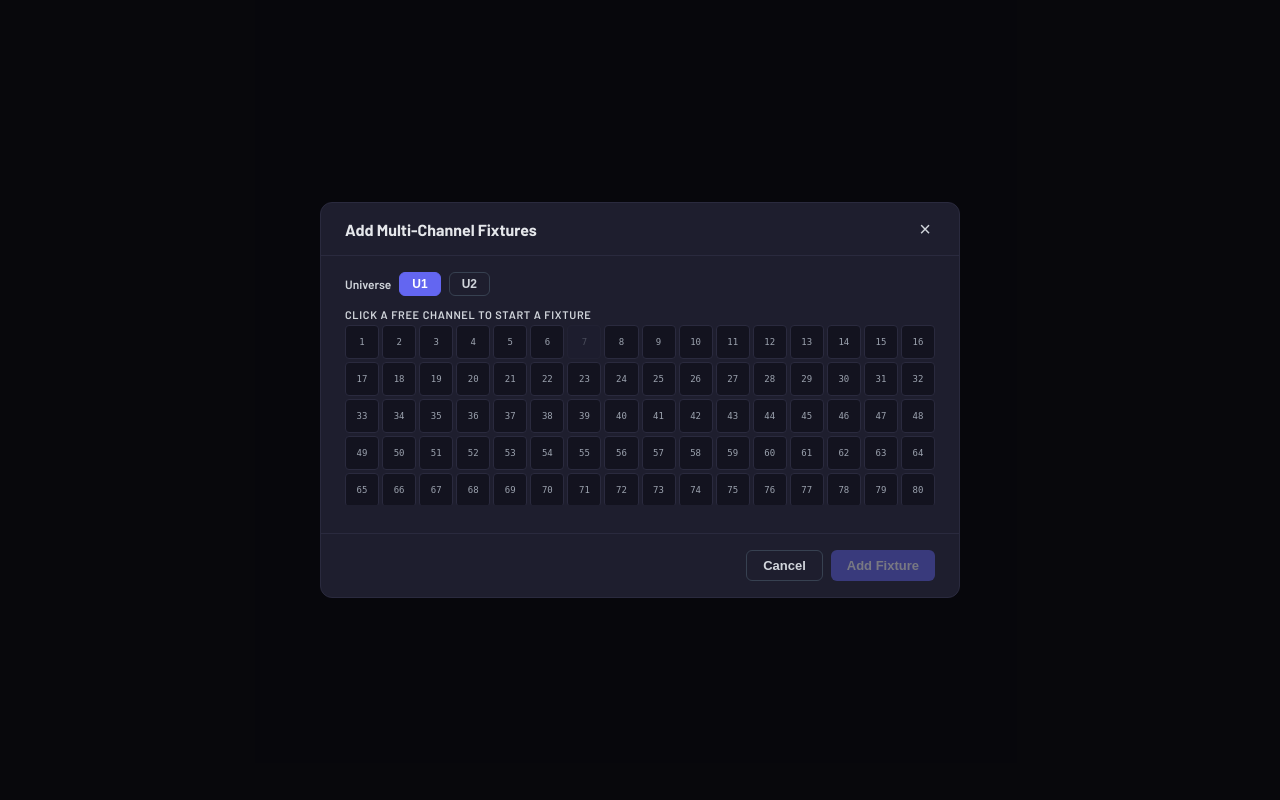
Scenario: AddMultiChannelFixturesModal › rejects + Add Channel when the next channel is already taken and shows a toast
Click the text titled "Channel 5" at (510, 342), box [493,325,527,359]
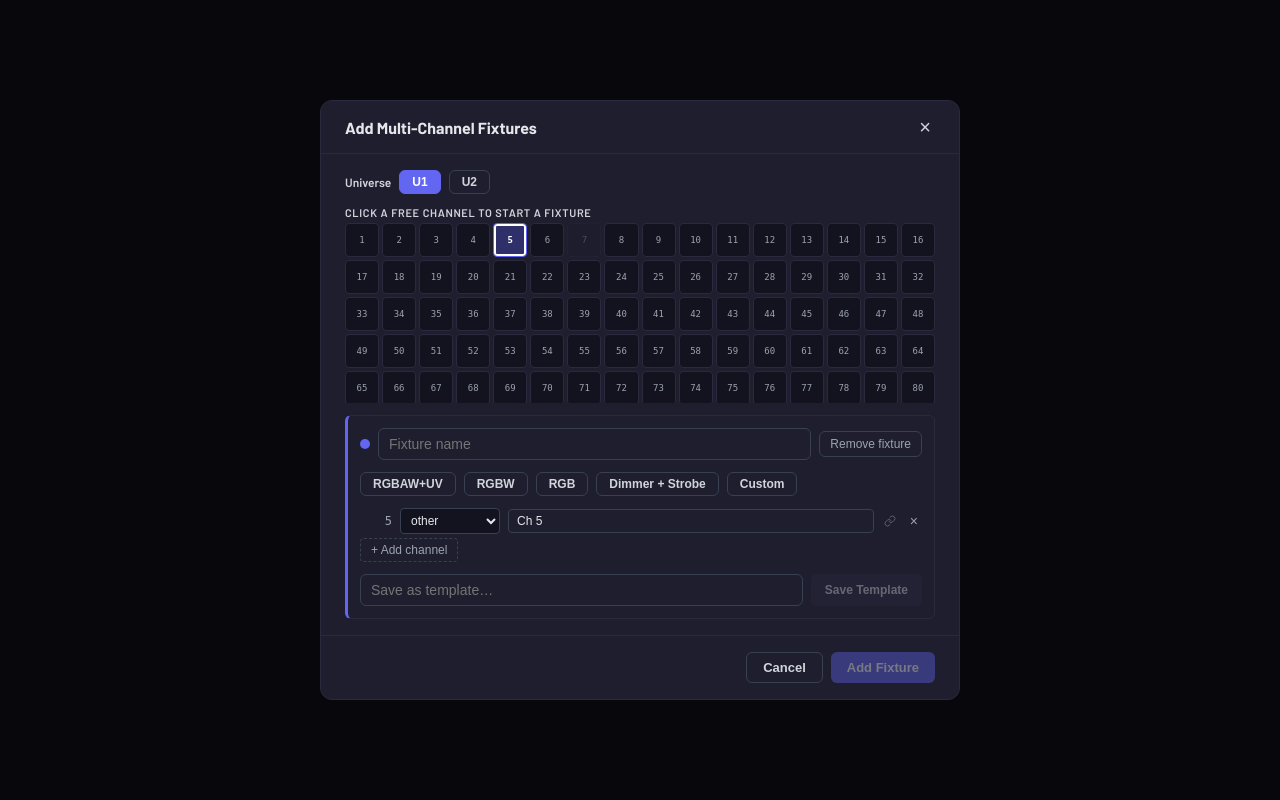
Click the button "+ Add channel" at (409, 550), box [360,538,458,562]
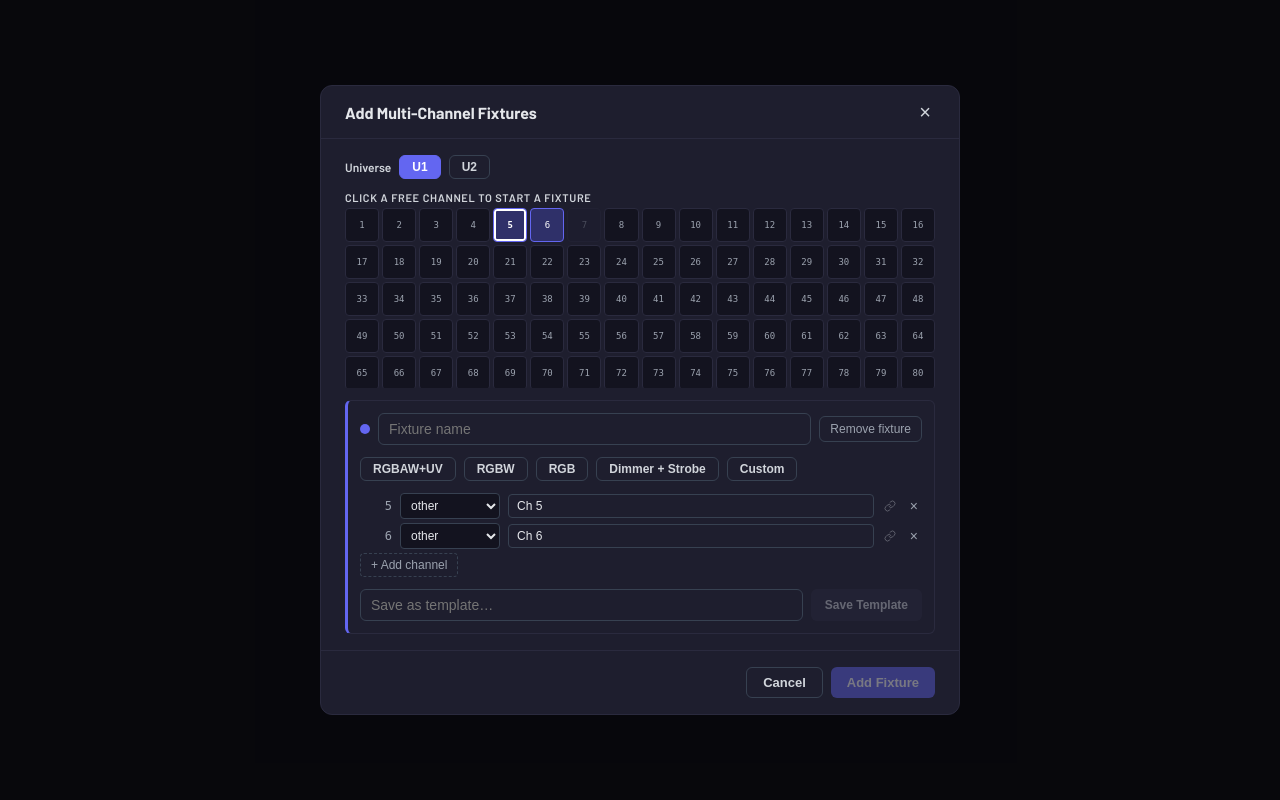
Click the button "+ Add channel" at (409, 565), box [360,553,458,577]
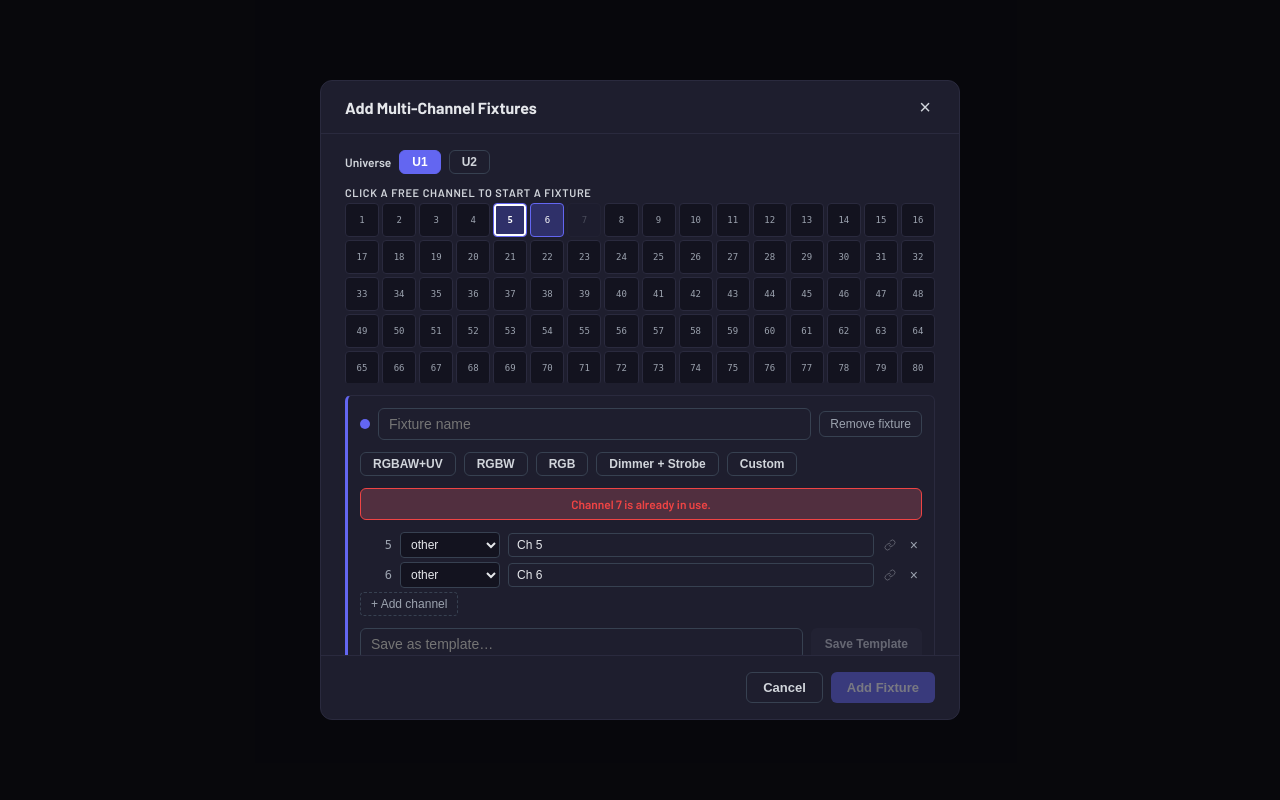
Now the text "Channel 7 is already in use." is shown, box [360,488,922,520]
